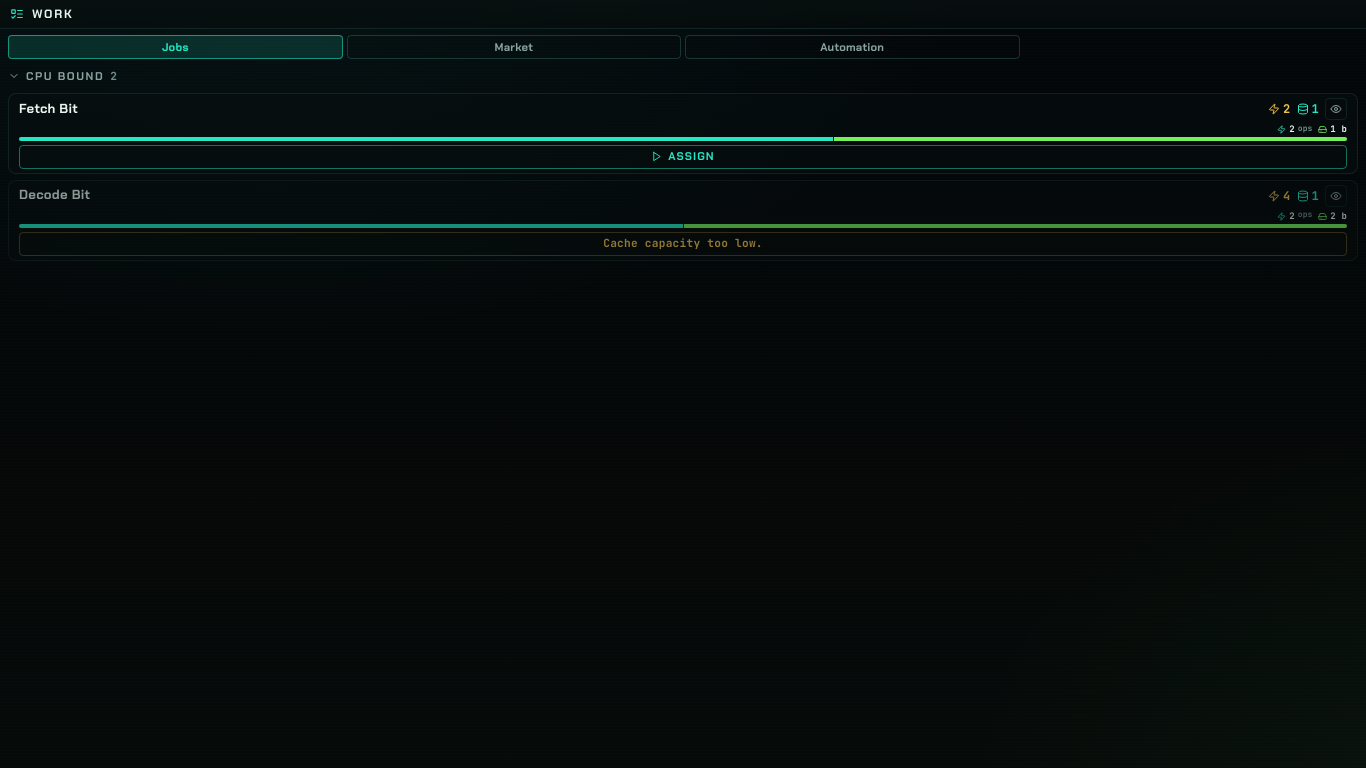
Test: WorkPanel › compacts repeating exact hourly rates in the contract market
Click the tab with aria-label "Contract Market".
click(514, 47)  # box [346, 35, 681, 59]
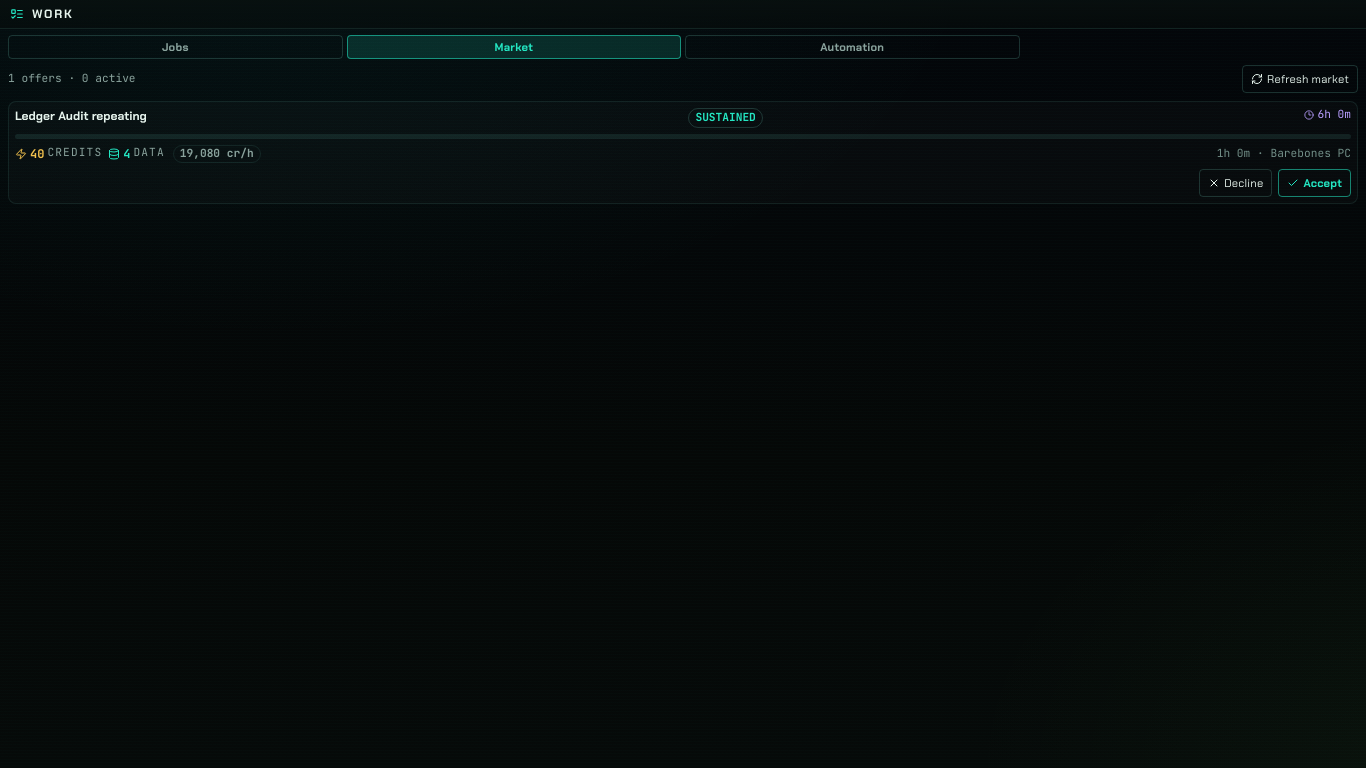
Expected: the text "19,080 cr/h" is shown, [173, 145, 261, 163]
